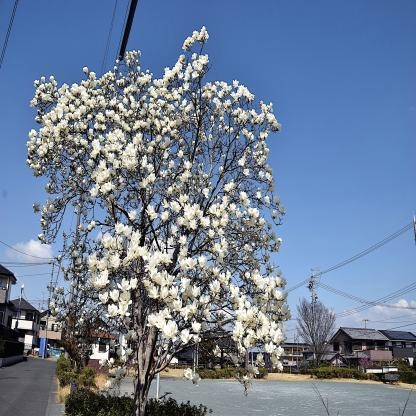Mokuren: (26, 25, 291, 397)
